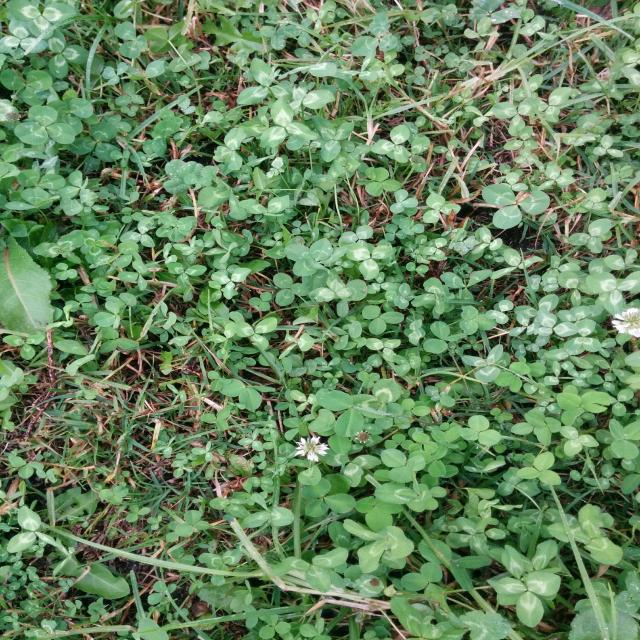Four Leaf Clover: (284, 238, 347, 293)
